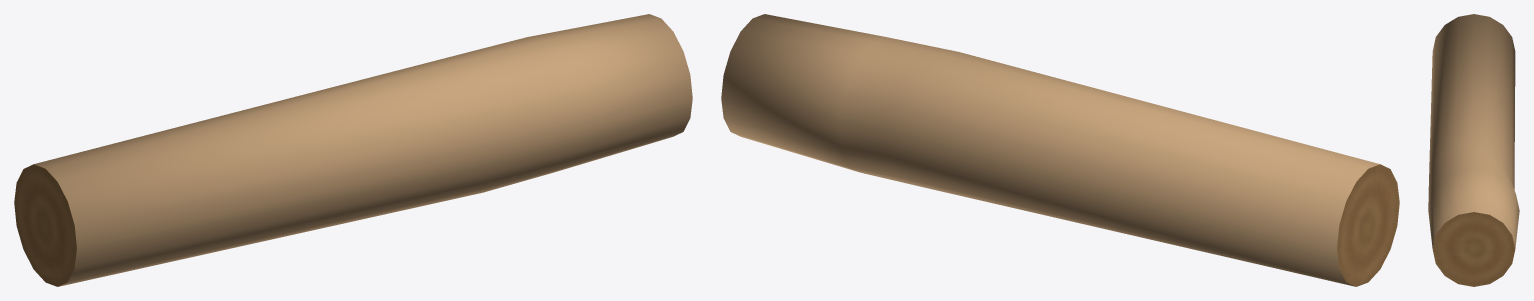
File: Timber_Whole_1.fbx
3 views of the same model, side by side, from view 1: azimuth 30°, elevation 25°; view 2: azimuth 150°, elevation 25°; view 3: azimuth 270°, elevation 25° (orthographic). The views are drawn at different scales.
Visible parts, largest first — view 1: Cylinder.086; view 2: Cylinder.086; view 3: Cylinder.086.
Part boxes in pixels (x1=…): Cylinder.086: x1=14, y1=14, x2=692, y2=286; Cylinder.086: x1=721, y1=14, x2=1399, y2=286; Cylinder.086: x1=1428, y1=14, x2=1519, y2=286.
Size of the model in its own units: 86.71 by 17.46 by 16.9.
